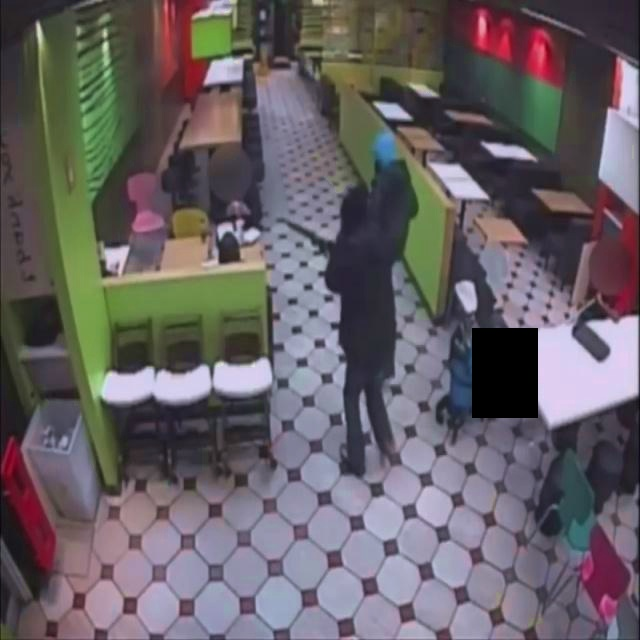gun: (260, 207, 341, 257)
